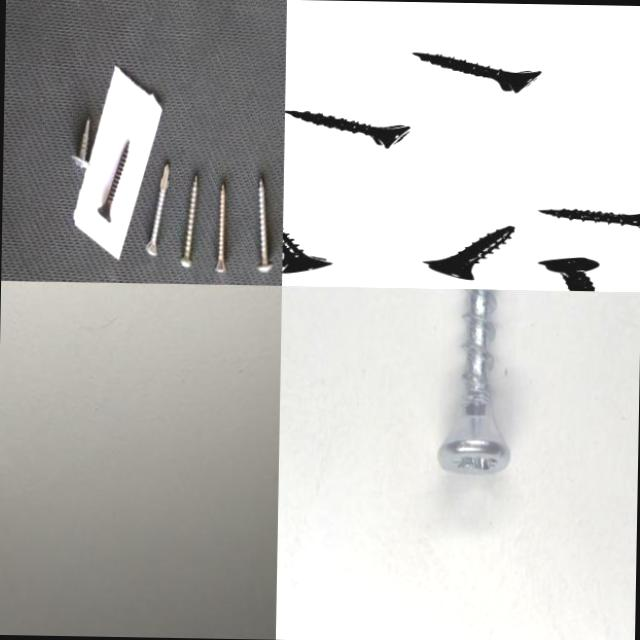Screw: (437, 289, 510, 475), (413, 52, 542, 92), (424, 226, 516, 280), (285, 110, 411, 148), (97, 141, 128, 224), (282, 229, 332, 274), (145, 164, 169, 257), (540, 258, 601, 291), (540, 209, 640, 227), (180, 176, 197, 268), (257, 179, 272, 274), (70, 118, 89, 169), (215, 185, 225, 274)
